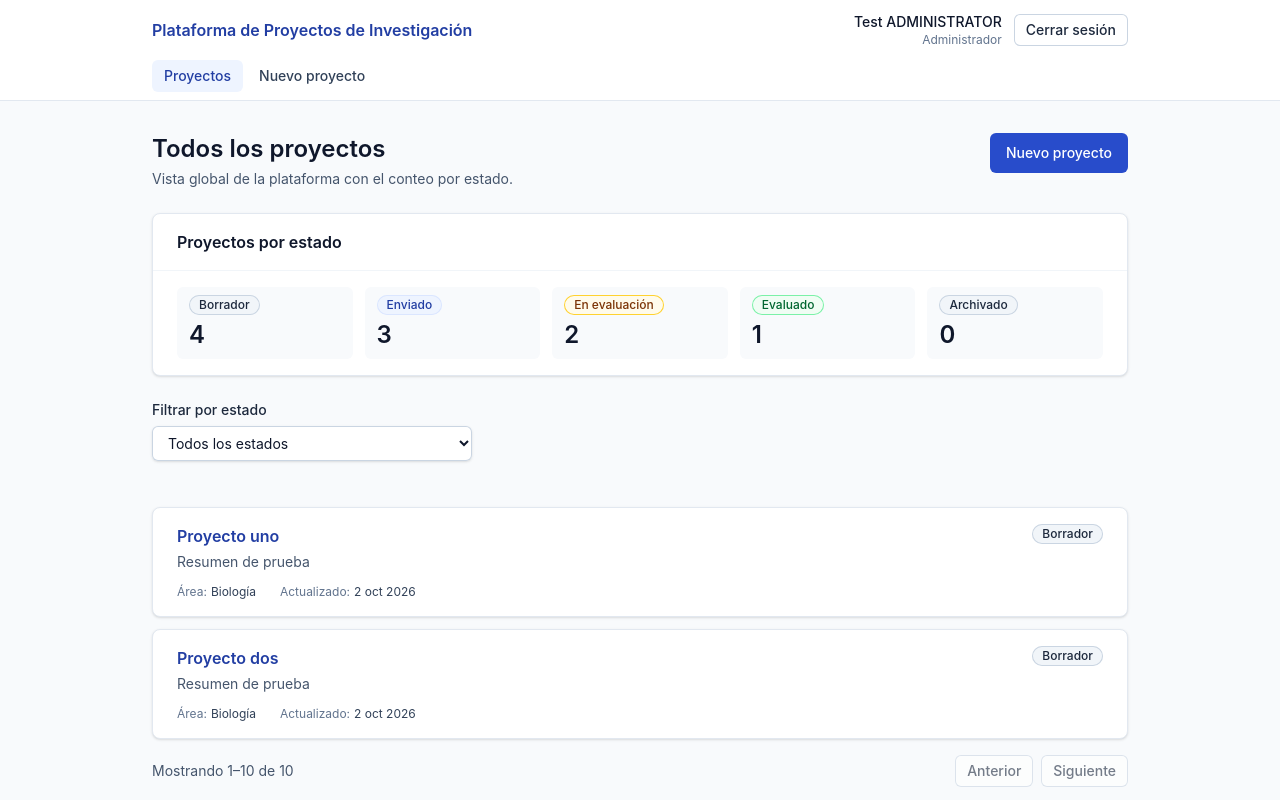
Test case: role dashboards › ADMINISTRATOR: all projects, a count per status, a status filter, and create + list navigation
Expected: the heading "Todos los proyectos" is shown, [152, 134, 386, 163]
Expected: the link "Proyecto uno" is shown, [177, 526, 279, 546]
Select "Enviado" in the dropdown labelled "Filtrar por estado": (312, 444) [152, 426, 472, 461]
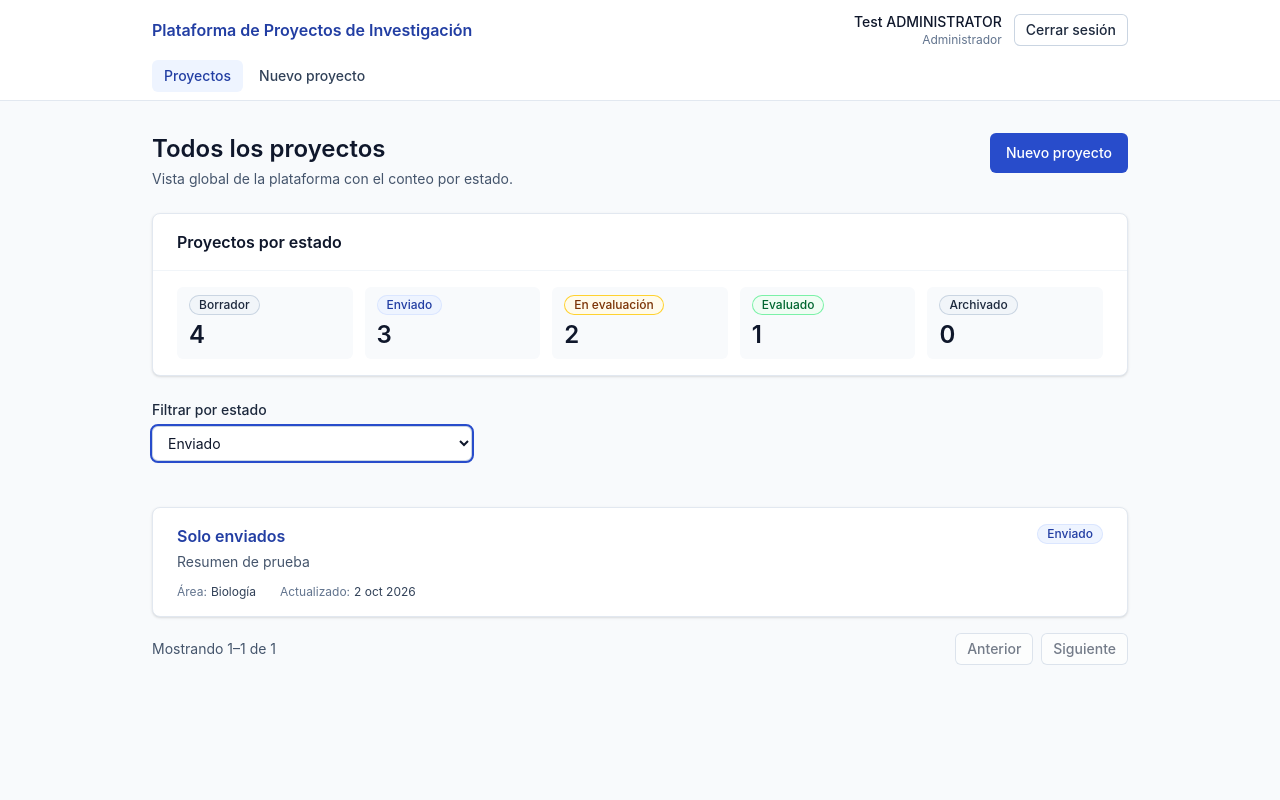
Expected: the link "Solo enviados" is shown, [177, 526, 285, 546]
Expected: the link "Proyecto uno" is gone
